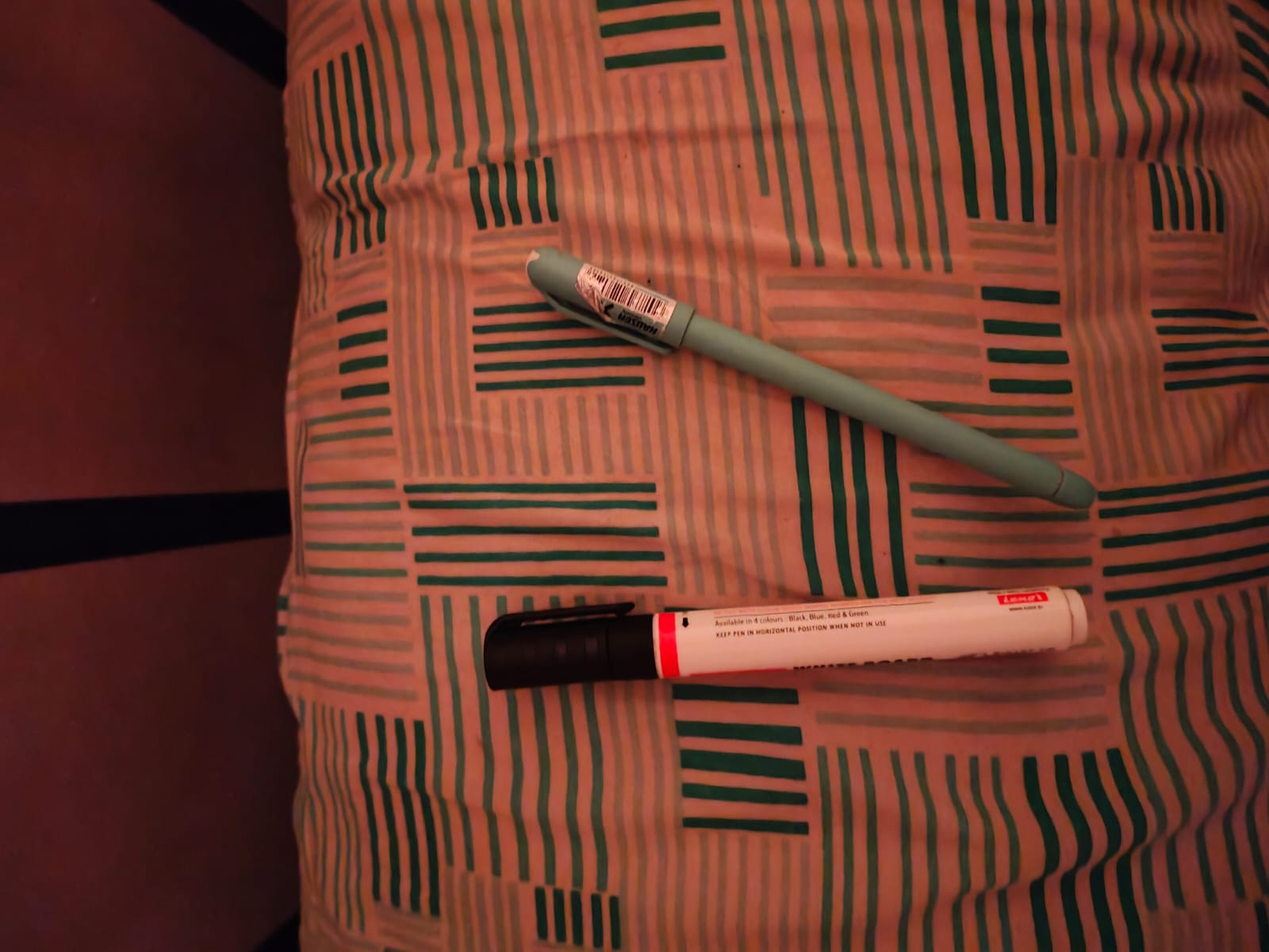case: (474, 573, 1107, 717)
pen: (518, 241, 1116, 512)
